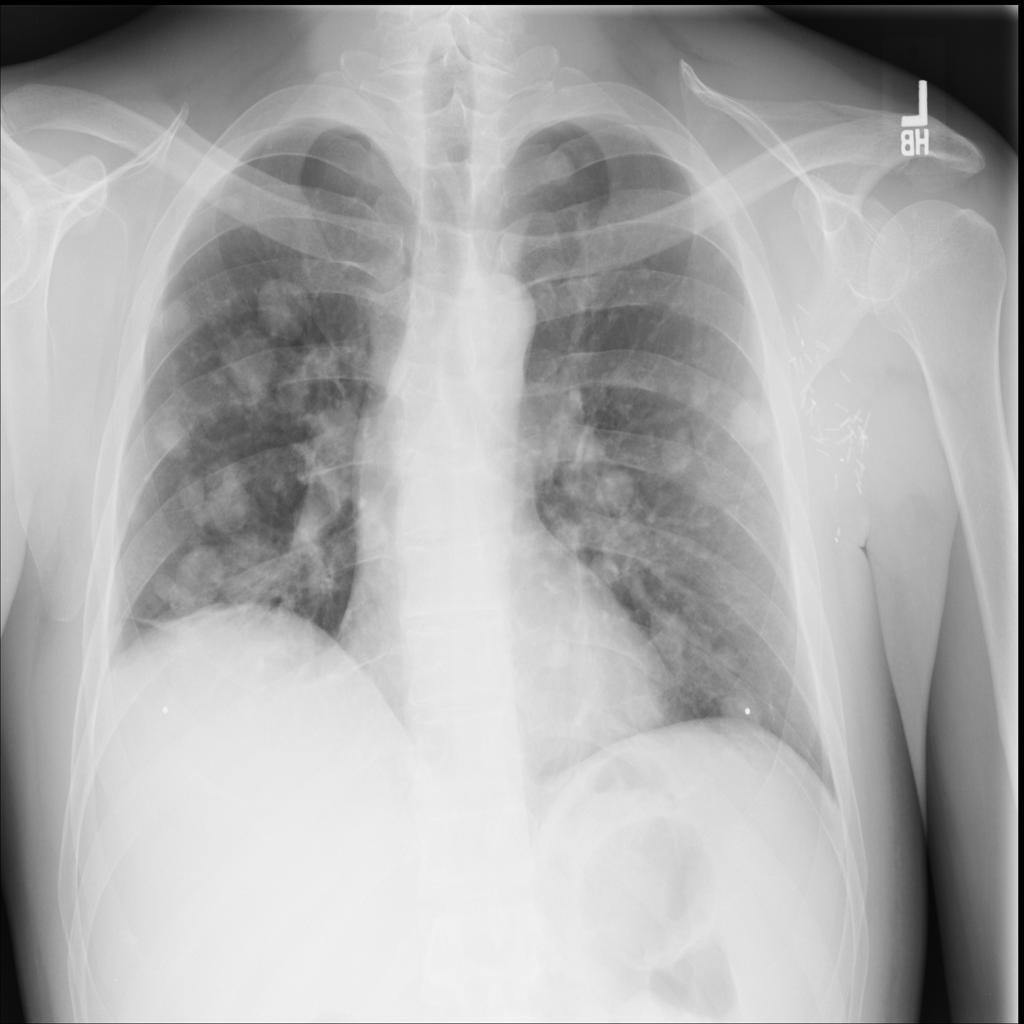nodule: (171, 453, 258, 534), (220, 524, 297, 605), (151, 542, 231, 617), (250, 261, 318, 346), (215, 318, 285, 400), (718, 381, 784, 463), (707, 673, 784, 743), (638, 594, 700, 675), (646, 413, 707, 494), (608, 675, 678, 744), (577, 452, 645, 523), (142, 397, 205, 470), (138, 276, 205, 344), (701, 635, 759, 710), (621, 248, 670, 300), (536, 622, 580, 678), (219, 181, 254, 223)
